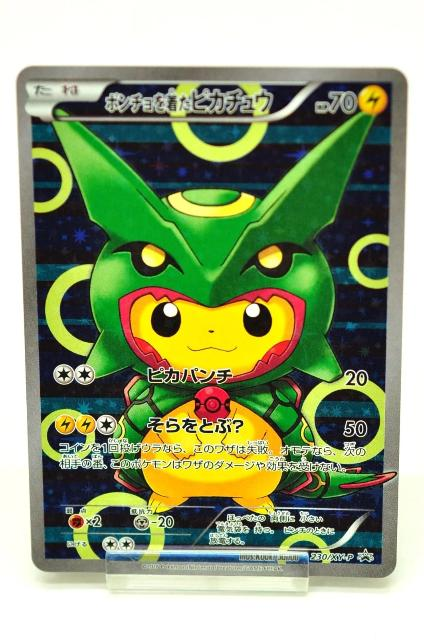Card: (11, 62, 410, 583)
Name: (99, 85, 279, 118)
